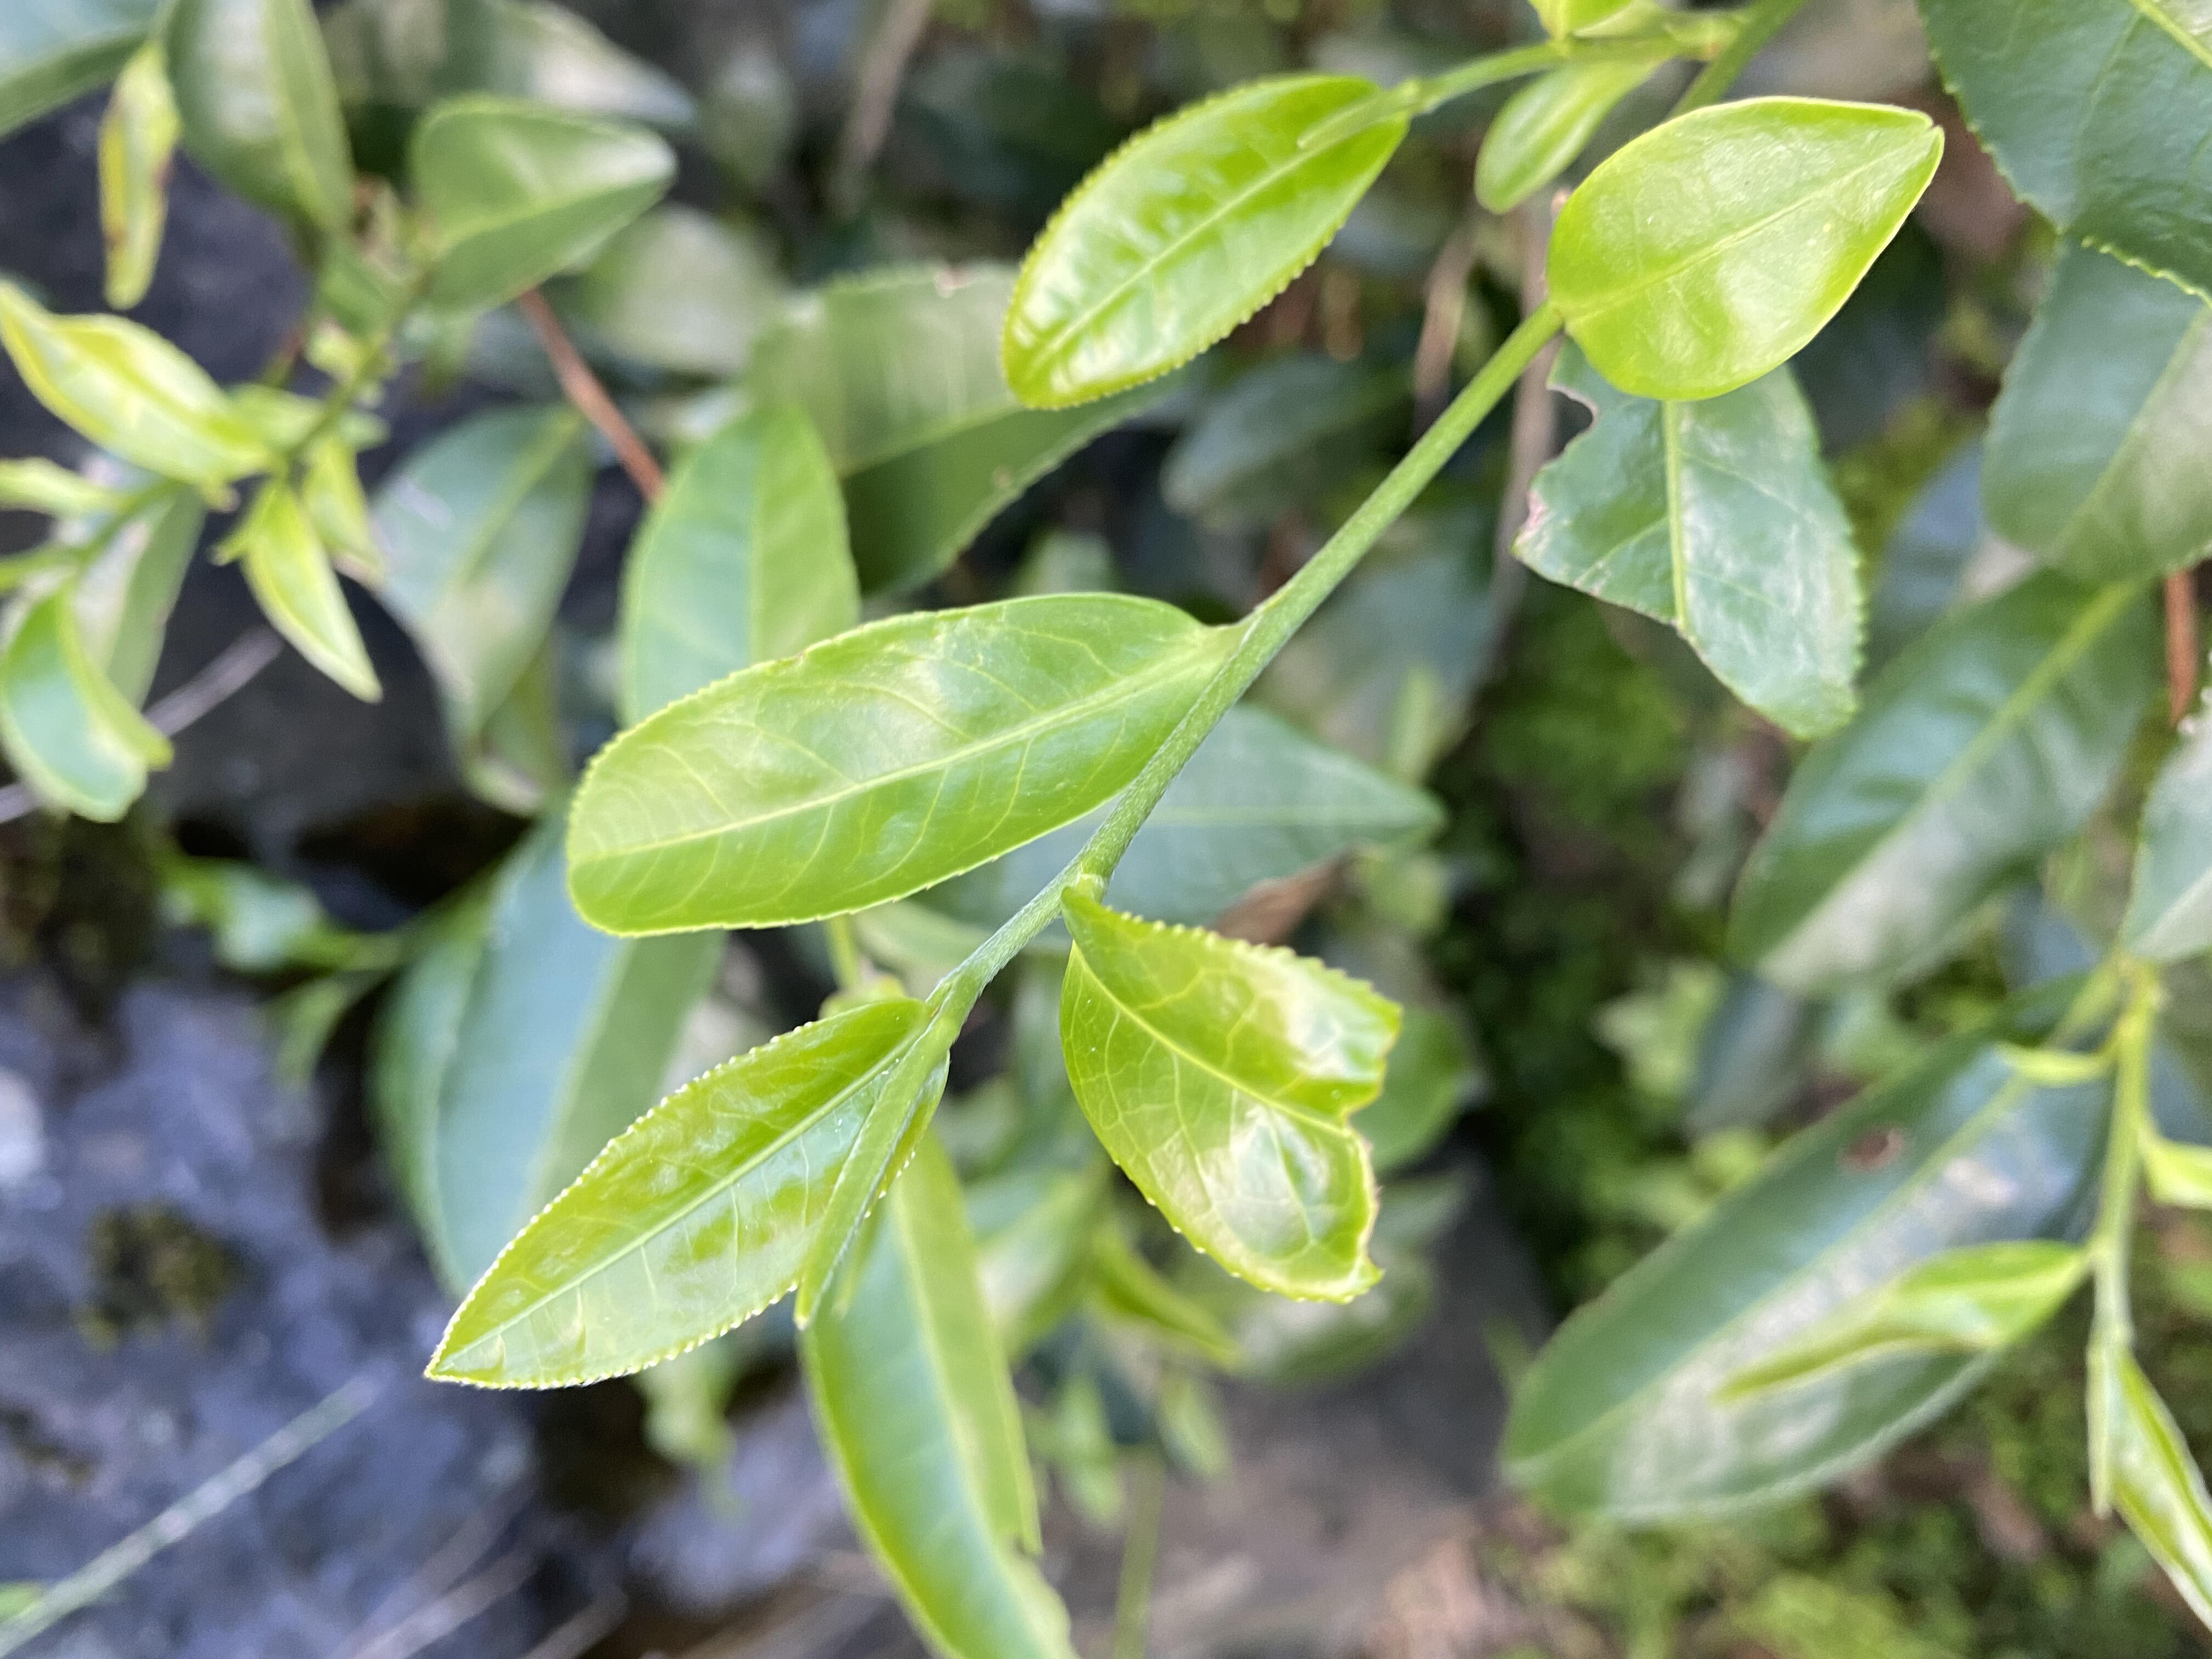chihuo_high: (1052, 884, 1409, 1309), (1507, 336, 1871, 746)
healthy: (564, 587, 1217, 941), (423, 997, 953, 1396), (996, 71, 1413, 416), (1545, 94, 1949, 406)
